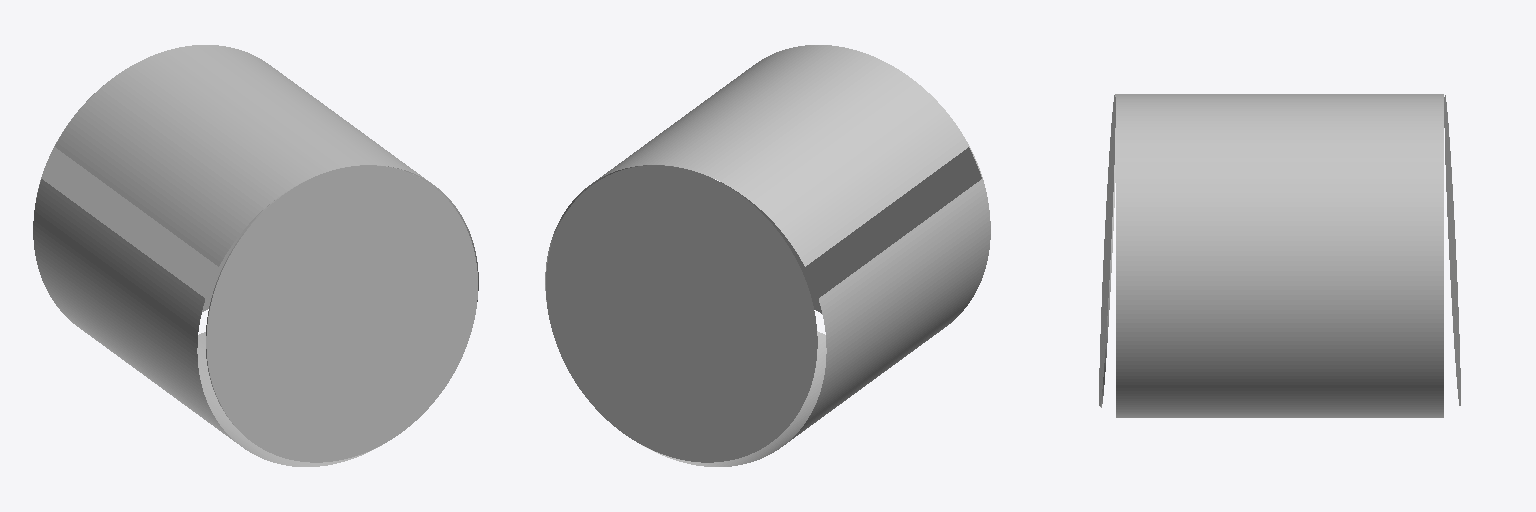
File: plane bend89.obj
3 renders of one model, left to right at view 1: azimuth 30°, elevation 25°; view 2: azimuth 150°, elevation 25°; view 3: azimuth 270°, elevation 25°, orthographic.
Parts seen in each view (by area): view 1: Circle, Plane, Circle.001; view 2: Circle.001, Plane, Circle; view 3: Plane, Circle, Circle.001.
Part boxes in pixels (x1,y1,x2,y2): Circle: (206,165,477,462); Plane: (33,45,478,466); Circle.001: (36,85,274,311); Circle.001: (546,165,817,462); Plane: (545,45,990,466); Circle: (721,47,987,313); Plane: (1116,94,1443,417); Circle: (1099,94,1115,407); Circle.001: (1444,95,1460,405).
Bounding box in the file's own units: 1.98 × 1.98 × 2.2.